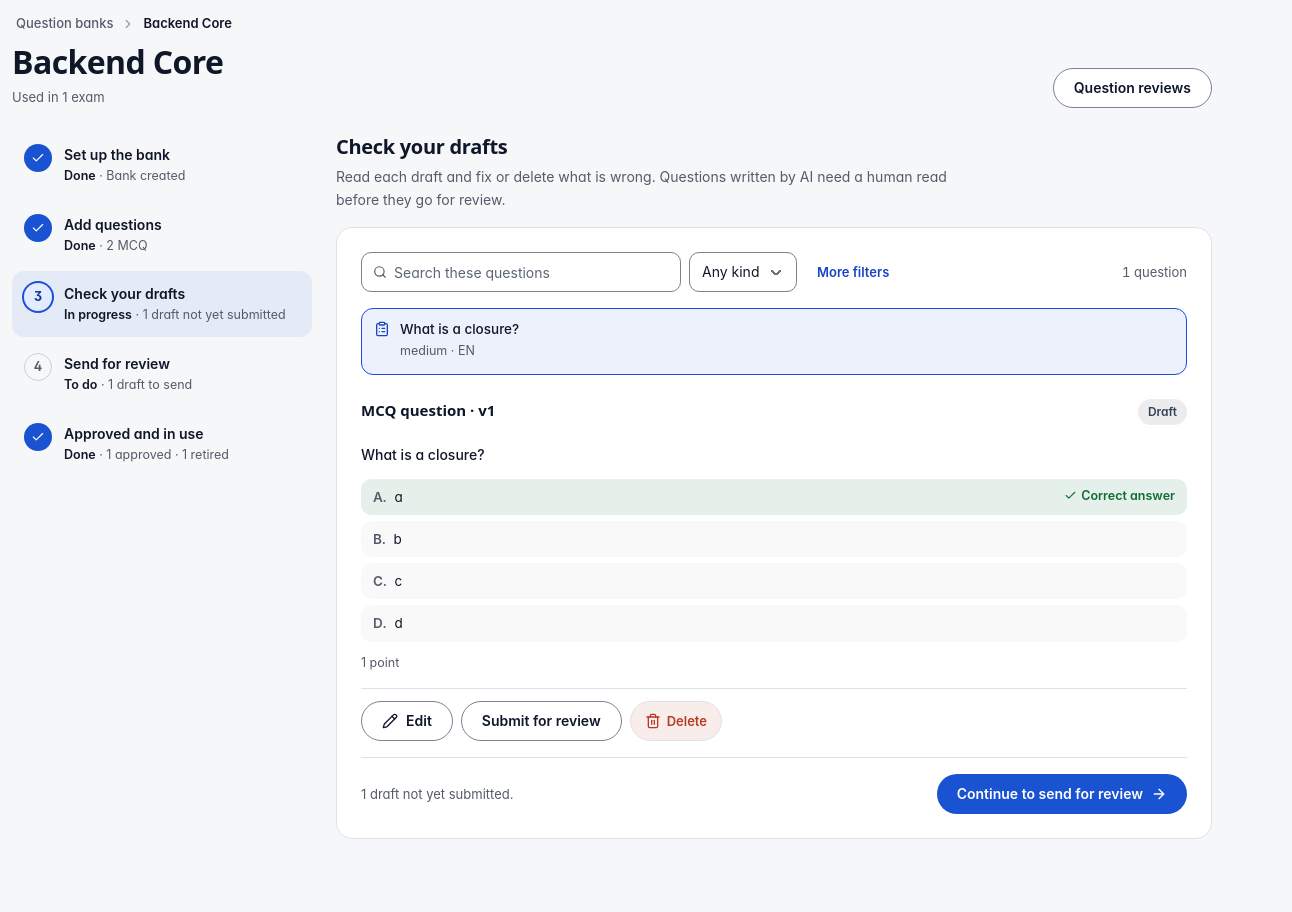
Test: QuestionBankDetail - the editor is draft-only › shows a draft read-only first, and is fully editable once Edit is chosen
Expected: the element with test id "mcq-read-view" shows "What is a closure?", [361,446,485,463]
Expected: the button "Submit for review" is shown, [461,701,622,741]
Click the button "Edit". click: click(407, 721)
box: [361,701,453,741]
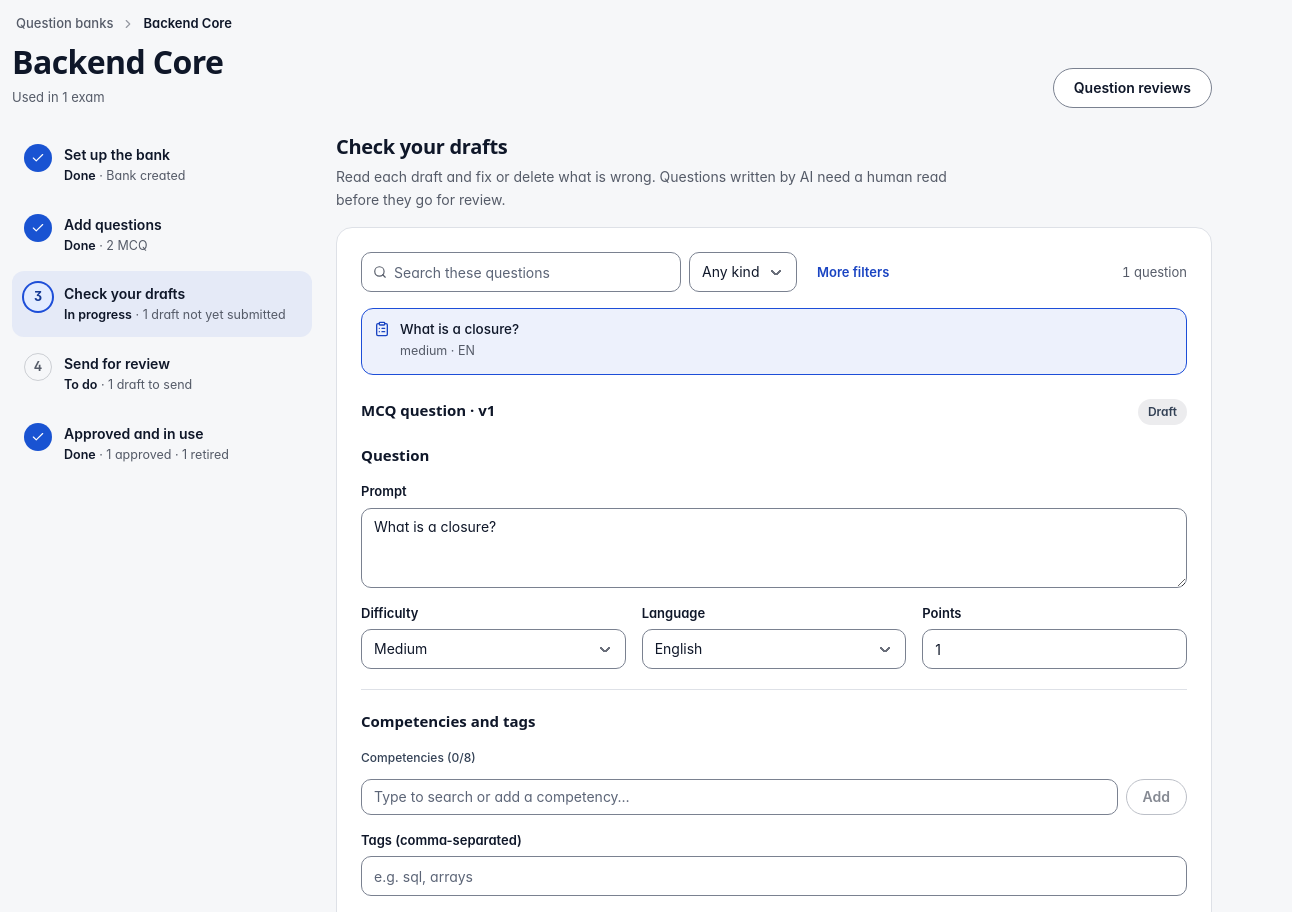
Expected: the text box showing "What is a closure?" is enabled, [361,508,1187,588]
